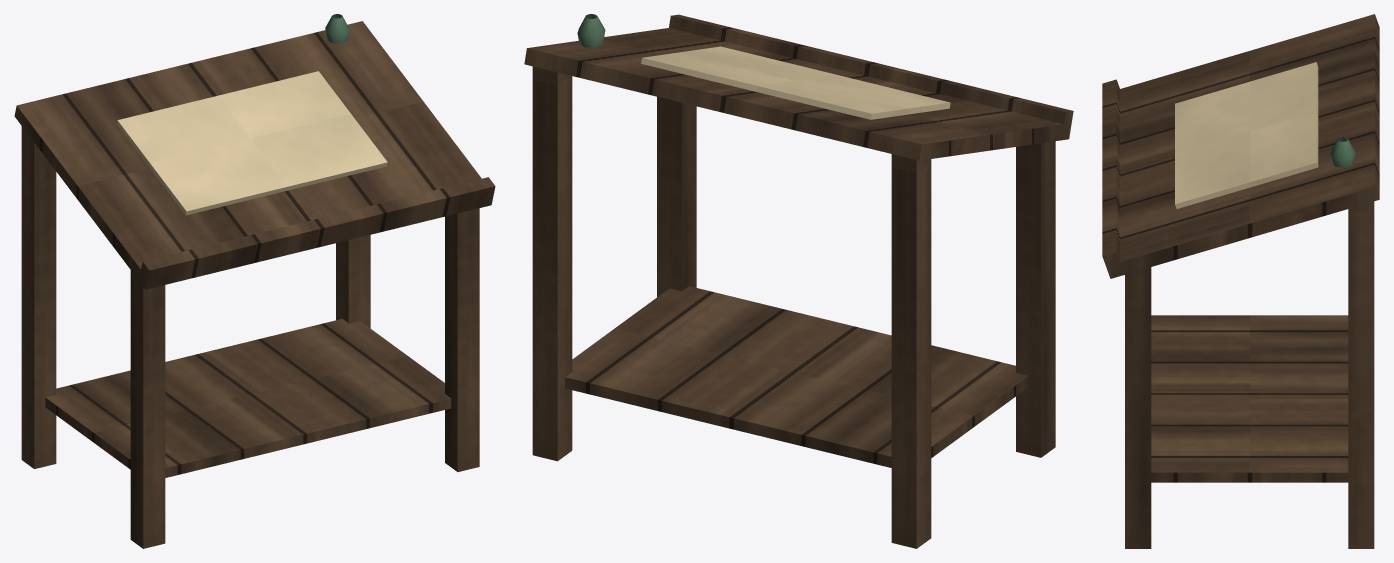
File: Desk_Scribe_1.gltf
The picture shows the model from 3 angles, left to right: view 1: azimuth 30°, elevation 25°; view 2: azimuth 150°, elevation 25°; view 3: azimuth 270°, elevation 25°; orthographic projection. The views are drawn at different scales.
Parts seen in each view (by area): view 1: Desk_Scribe_1; view 2: Desk_Scribe_1; view 3: Desk_Scribe_1.
Part boxes in pixels (x1,y1,x2,y2): Desk_Scribe_1: [14, 14, 495, 548]; Desk_Scribe_1: [524, 14, 1073, 548]; Desk_Scribe_1: [1102, 14, 1379, 548].
Size of the model in its own units: 1.1 by 1.16 by 0.7444.
3 materials, 3 textured.
